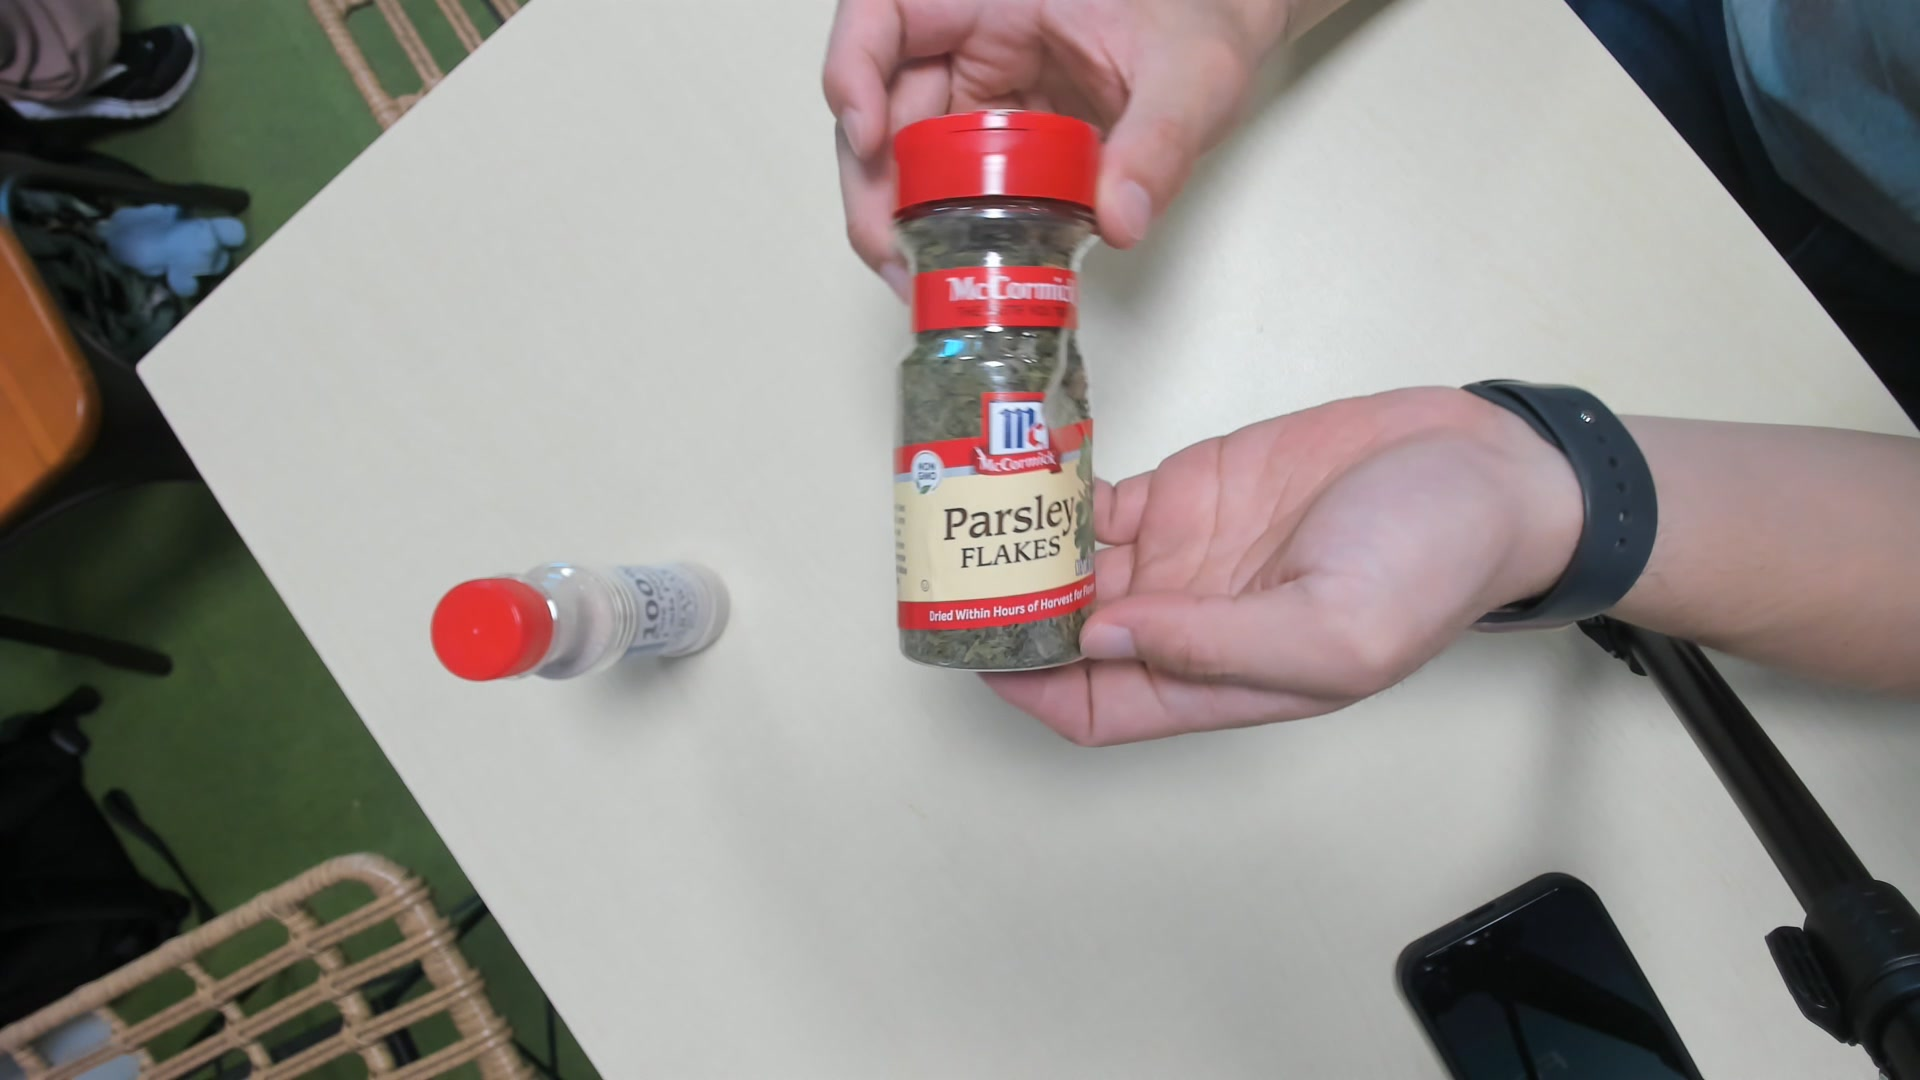HerbsSpicesPepper_0-99g_NonHalal_NonHealthy: (890, 109, 1097, 675)
